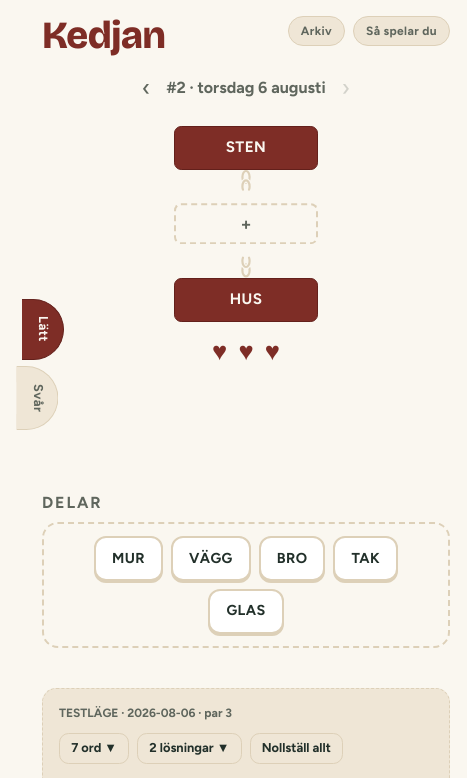
solving › finishes the day when a removal makes the chain hold
Step 1. Click the button with aria-label "mur." → (128, 558), box [94, 536, 163, 581]
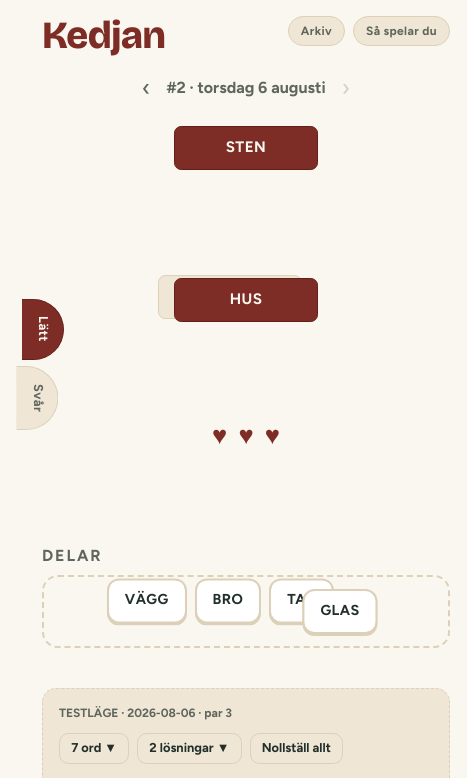
Step 2. Click the button with aria-label "bro." → (223, 604), box [190, 581, 256, 626]
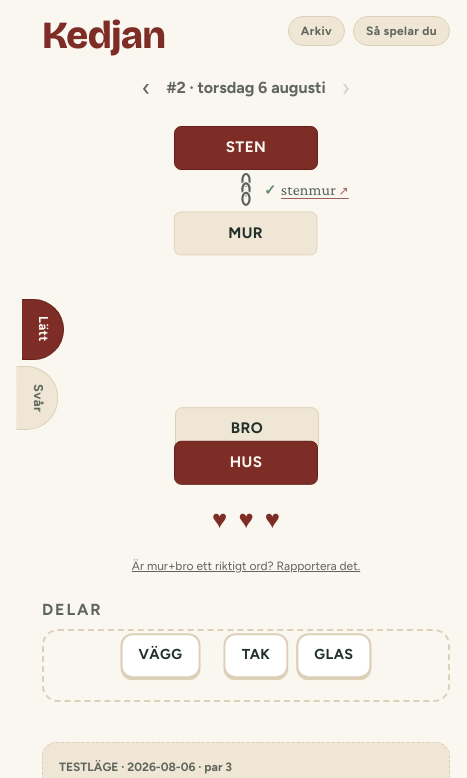
Expected: the button "Dela resultat" is not shown
Step 3. Click the button with aria-label "länk 1, mur." → (246, 232), box [174, 210, 318, 254]
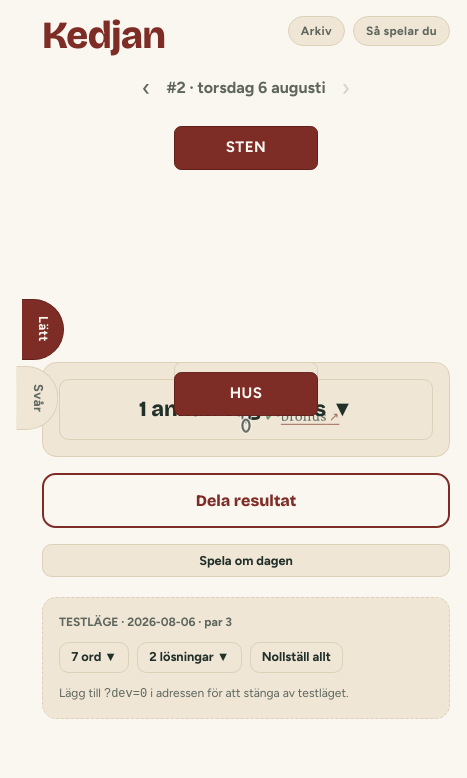
Expected: the button "Dela resultat" is shown, [42, 473, 450, 528]
